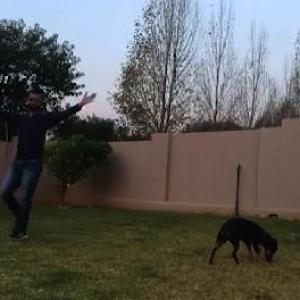takeoff: (0, 86, 116, 246)
